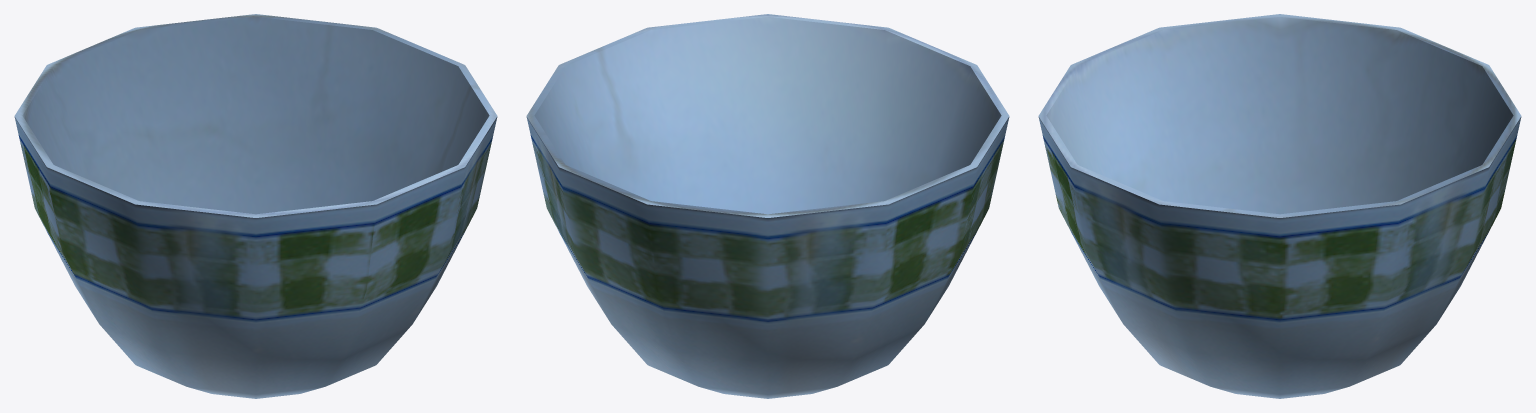
File: bowl-5.FBX
The picture shows the model from 3 angles, left to right: view 1: azimuth 30°, elevation 25°; view 2: azimuth 150°, elevation 25°; view 3: azimuth 270°, elevation 25°; orthographic projection.
Visible parts, largest first — view 1: bowl-5_LOD0; view 2: bowl-5_LOD0; view 3: bowl-5_LOD0.
Part boxes in pixels (x1,y1,x2,y2): bowl-5_LOD0: (14, 14, 497, 398); bowl-5_LOD0: (526, 14, 1009, 398); bowl-5_LOD0: (1038, 14, 1521, 398).
Size of what is drawn, in the model's own units: 10.2 by 5.73 by 10.2.
